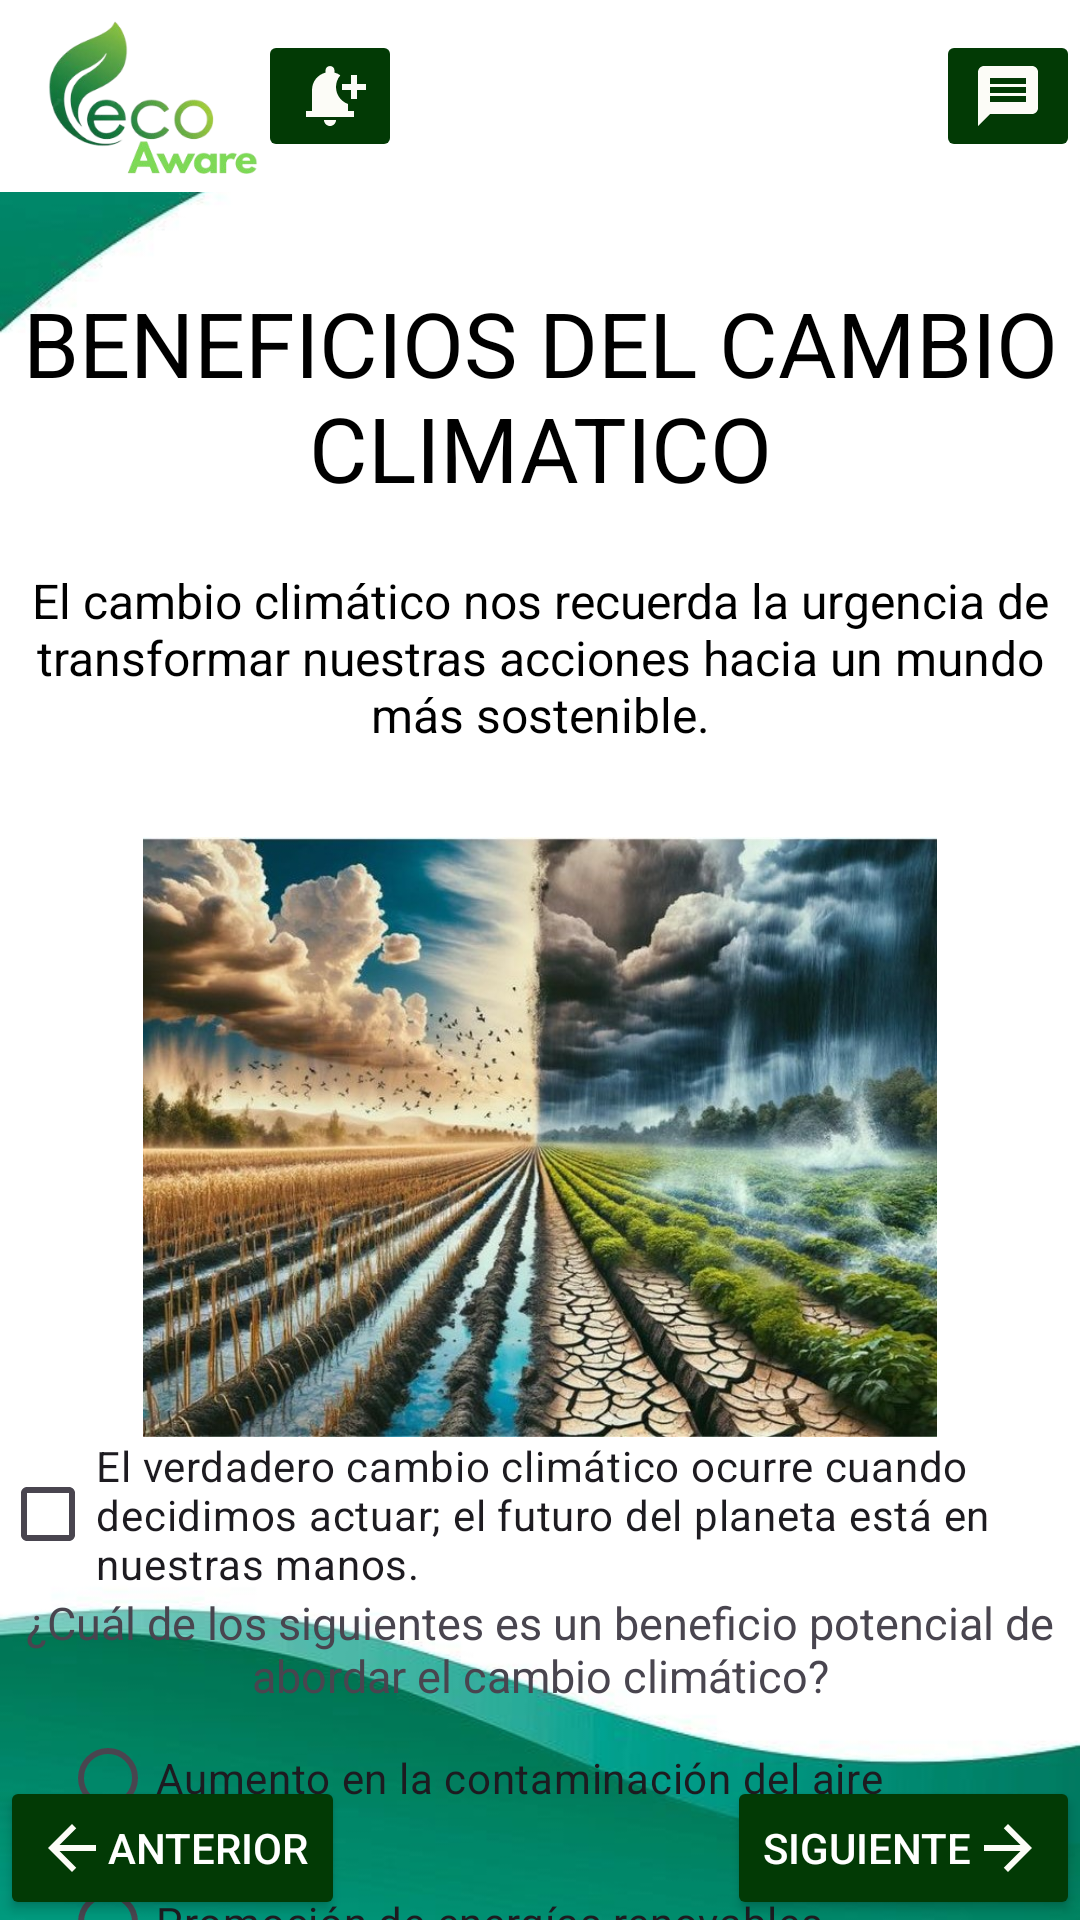

Named icons in this screenshot (1080px x 1920px) and their bounding boxes, bbox=(x1, y1, x2, y2):
iconomensaje: bbox=(948, 48, 1068, 144)
icononotificacion: bbox=(270, 48, 390, 144)
iconotoolbar: bbox=(49, 22, 257, 174)
